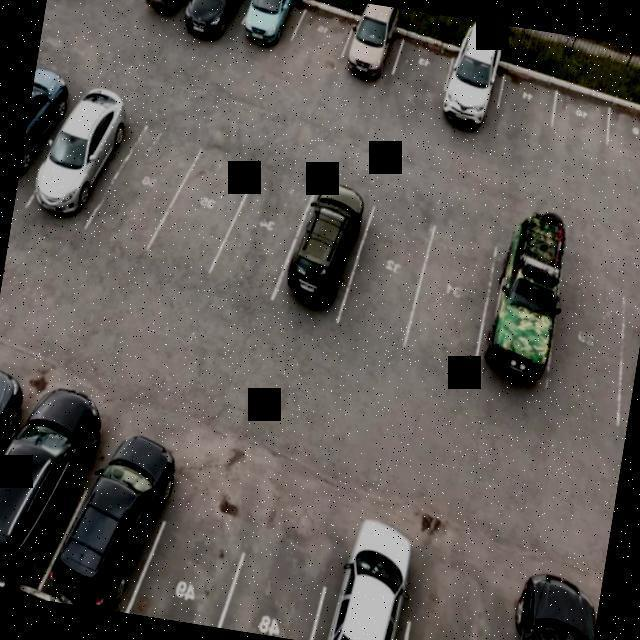space-empty: (89, 113, 202, 264), (144, 138, 258, 287), (134, 491, 251, 630), (394, 231, 505, 374), (210, 168, 319, 308), (332, 211, 438, 350), (539, 277, 640, 413), (217, 517, 328, 640), (281, 0, 361, 90), (385, 29, 463, 117), (488, 72, 564, 149), (397, 588, 501, 640), (547, 88, 617, 157), (592, 106, 640, 187)
space-occupied: (53, 454, 168, 616), (29, 94, 141, 254), (467, 242, 574, 405), (0, 416, 92, 602), (269, 175, 380, 325), (427, 42, 516, 148), (14, 75, 79, 213), (326, 3, 407, 101), (310, 561, 409, 640), (481, 590, 598, 640), (227, 0, 308, 68), (179, 0, 255, 58), (137, 0, 211, 40), (0, 393, 10, 553)
